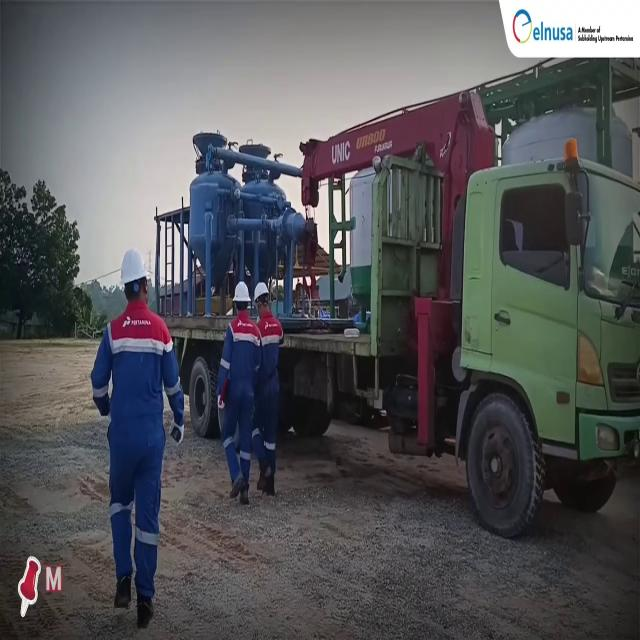Gloves: (168, 418, 183, 441)
Hardhat: (117, 252, 152, 286), (252, 277, 272, 301), (233, 279, 252, 303)
Overall Suit: (91, 304, 182, 572), (218, 315, 260, 478), (258, 312, 278, 466)
Safety Boots: (138, 595, 153, 628), (114, 574, 128, 606), (227, 477, 243, 499), (266, 472, 276, 495), (256, 466, 266, 489), (238, 484, 250, 502)
